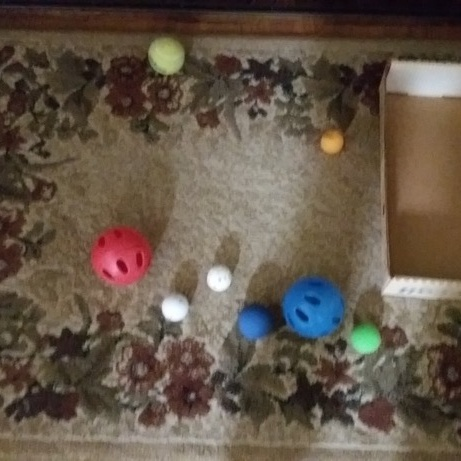ball: (278, 274, 350, 343), (88, 223, 154, 291)
